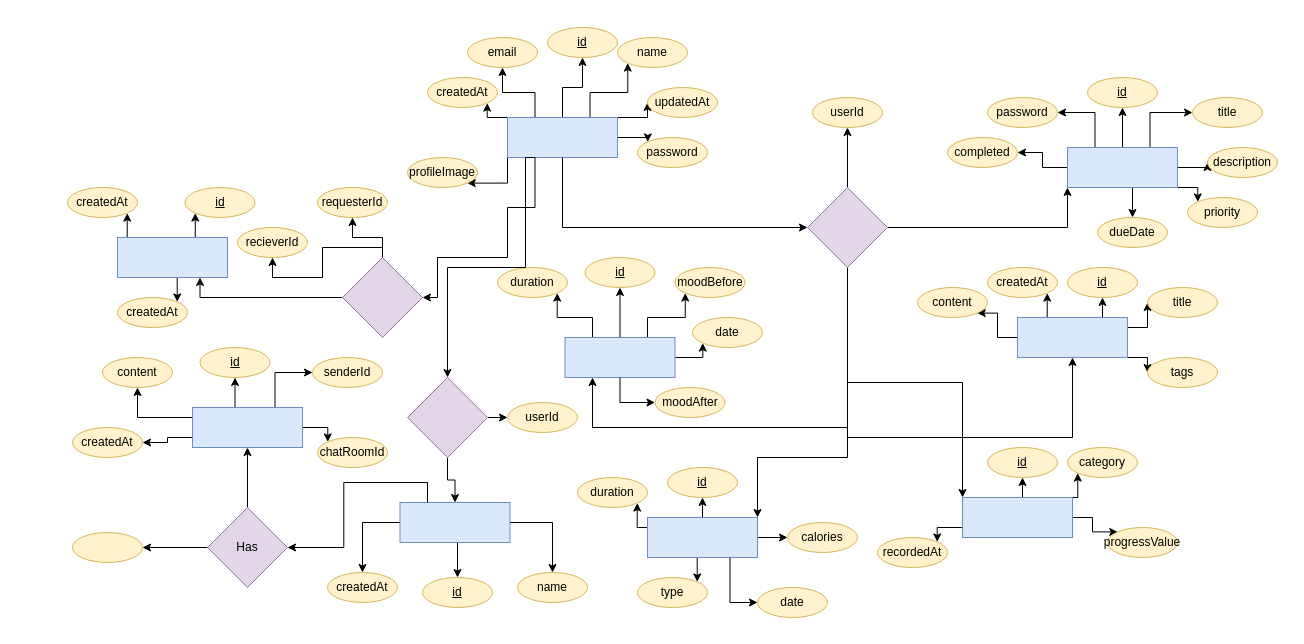
This 1304x644 diagram has some shape labels left out. The centre of each missing label's shape, as x and y in pixels:
ChatRoom: point 454,522
Creates: point 847,227
Enters: point 447,417
Establishes: point 382,297
Friendship: point 172,257
MeditationLog: point 619,357
Message: point 247,427
messageId: point 107,547
Note: point 1072,337
ProgressRecord: point 1017,517
Task: point 1122,167
User: point 562,137
WorkoutLog: point 702,537
